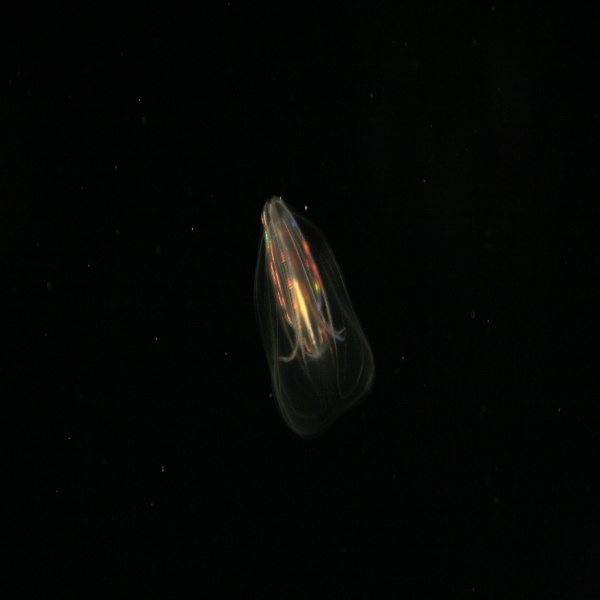Jellyfish: (250, 191, 378, 444)
